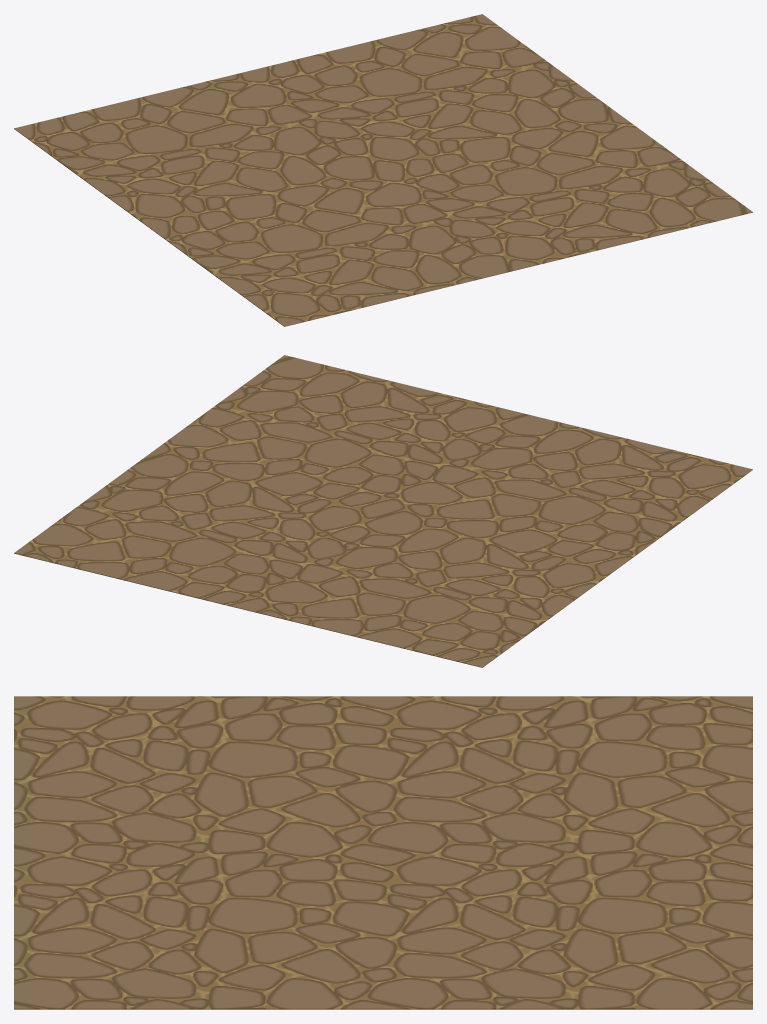
The model's file is FloorFantasyRocks_02.glb.
The picture shows the model from 3 angles, top to bottom: view 1: azimuth 30°, elevation 25°; view 2: azimuth 150°, elevation 25°; view 3: azimuth 270°, elevation 25°; orthographic projection. The views are drawn at different scales.
Parts seen in each view (by area): view 1: FloorFantasyRocks_02; view 2: FloorFantasyRocks_02; view 3: FloorFantasyRocks_02.
Part boxes in pixels (x1,y1,x2,y2): FloorFantasyRocks_02: [14, 14, 752, 326]; FloorFantasyRocks_02: [14, 355, 752, 667]; FloorFantasyRocks_02: [14, 696, 752, 1009].
Size of the model in its own units: 16 by 0.0191 by 16.
Materials: 1 (1 with a texture image).
